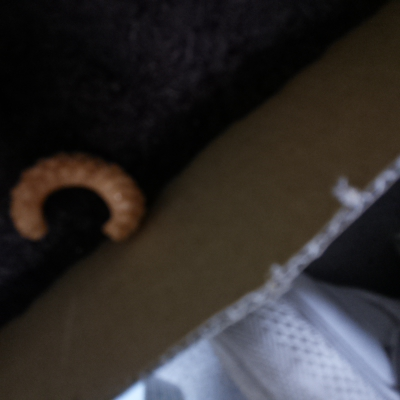eggs: (6, 151, 151, 251)
